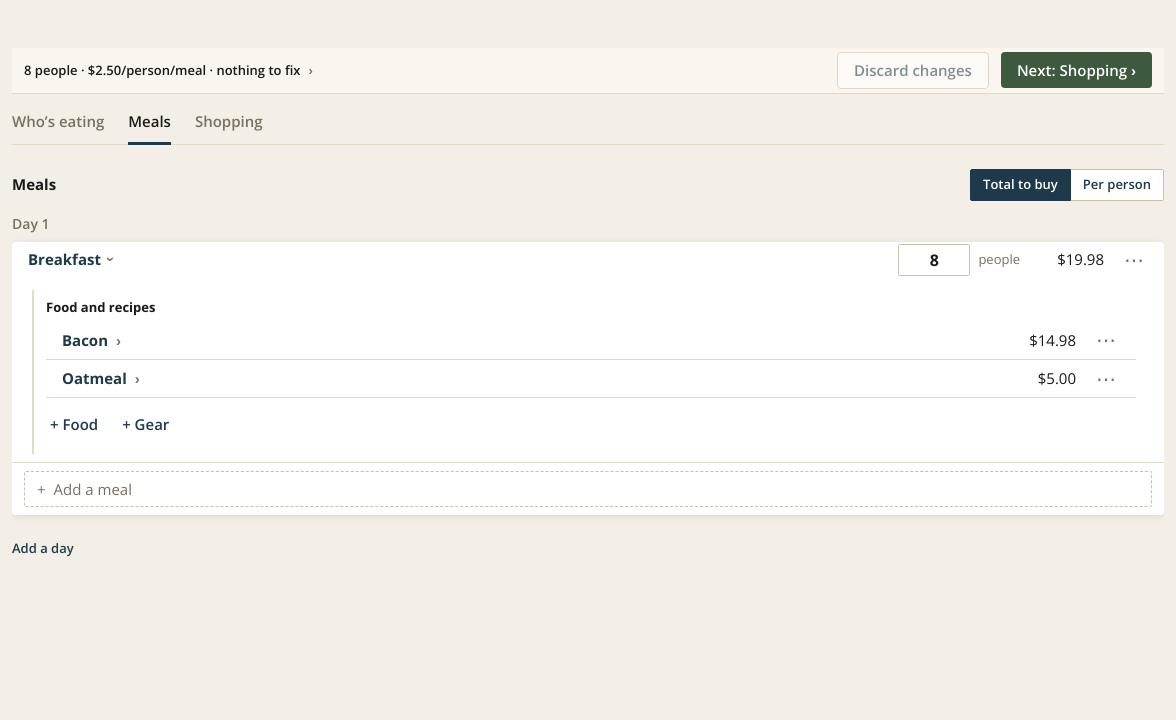
Test: LocalPlan, the troop lists a visitor can read (2026-10-06) › Visitor_GetsTheMealGearPicker_WhenGivenTheGearList
Click the button "+ Gear".
click(146, 424)  # box 118,402 -> 173,446
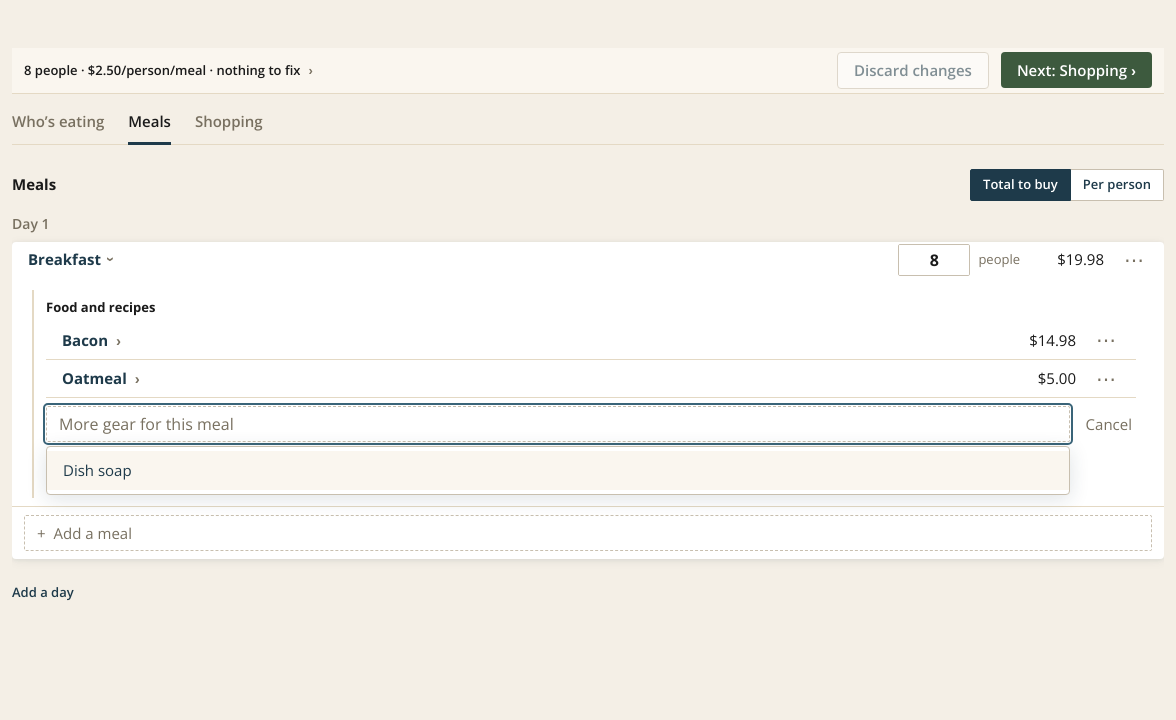
Expected: the dropdown labelled "More gear for this meal" is shown, 46,406 -> 1070,442
